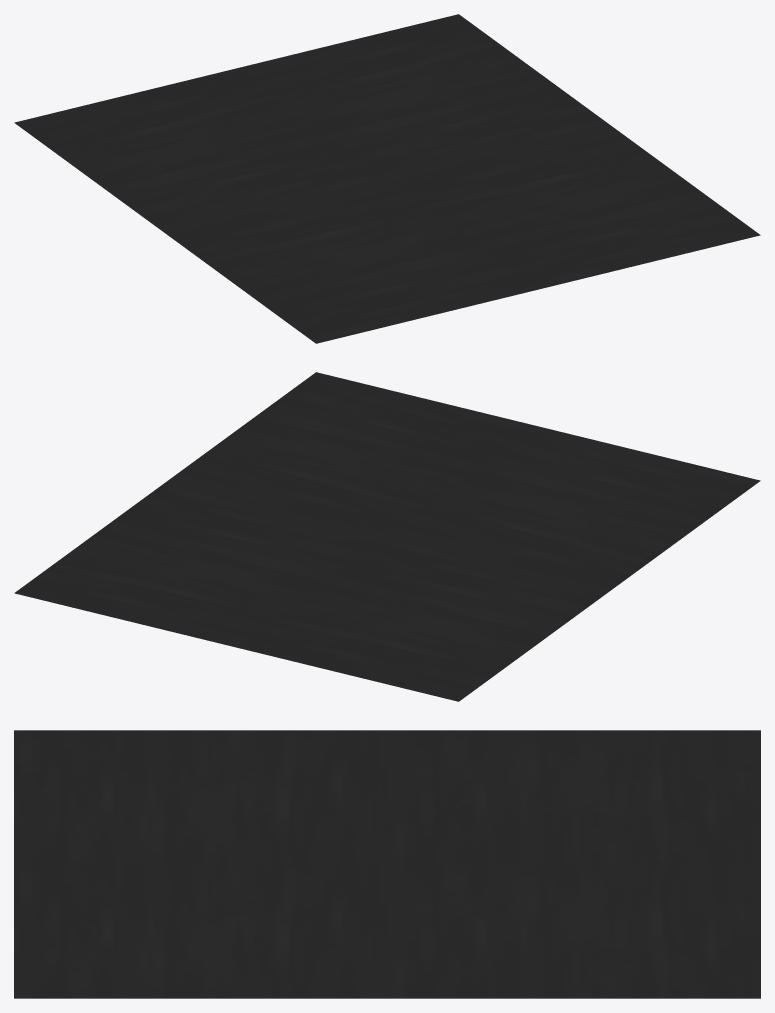
File: SW_ENV_RailTunnelCeiling_Double_10m.fbx
The picture shows the model from 3 angles, top to bottom: view 1: azimuth 30°, elevation 25°; view 2: azimuth 150°, elevation 25°; view 3: azimuth 270°, elevation 25°; orthographic projection. The views are drawn at different scales.
Parts seen in each view (by area): view 1: SW_ENV_RailTunnelCeiling_Double_10m; view 2: SW_ENV_RailTunnelCeiling_Double_10m; view 3: SW_ENV_RailTunnelCeiling_Double_10m.
Boxes of the visible parts, <box> form: SW_ENV_RailTunnelCeiling_Double_10m: <box>14,14,760,343</box>; SW_ENV_RailTunnelCeiling_Double_10m: <box>14,372,760,701</box>; SW_ENV_RailTunnelCeiling_Double_10m: <box>14,730,760,998</box>.
Size of the model in its own units: 850 by 1.49e-05 by 1000.
